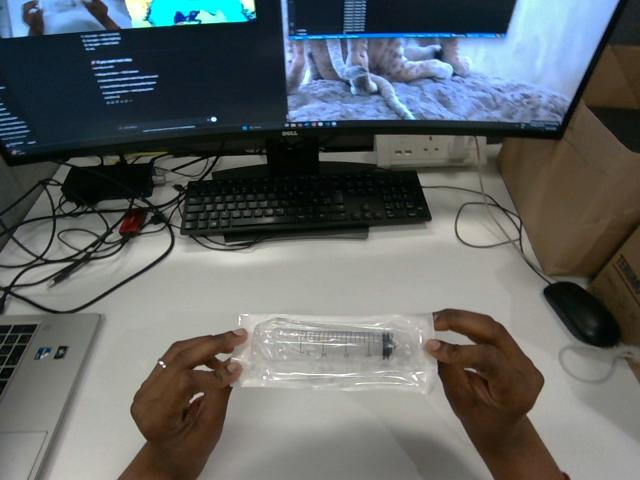syringe: (232, 314, 436, 392)
